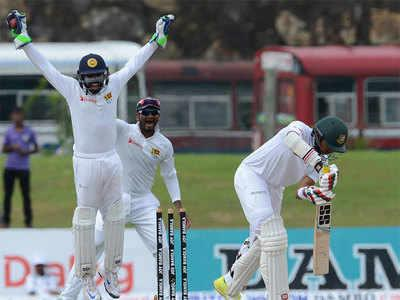batsman: (213, 114, 349, 300)
